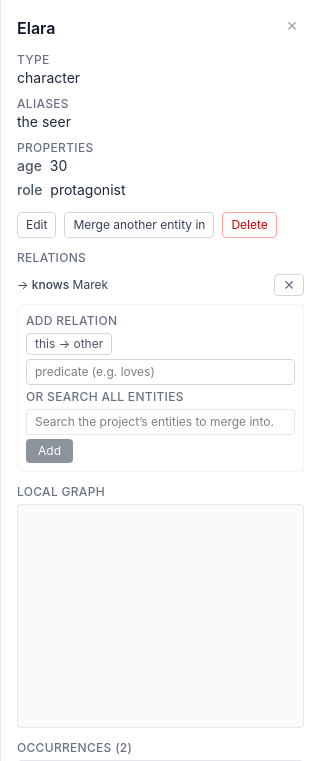
ReaderEntityPanel — entity editing (M4.S3a-fe) › PATCHes the edited name (project-language slot) and type, then leaves edit mode
The width and height of the screenshot is (321, 761).
Step 1. Click the button with test id "reader-entity-edit" → coordinates (37, 225), box [17,212,56,238]
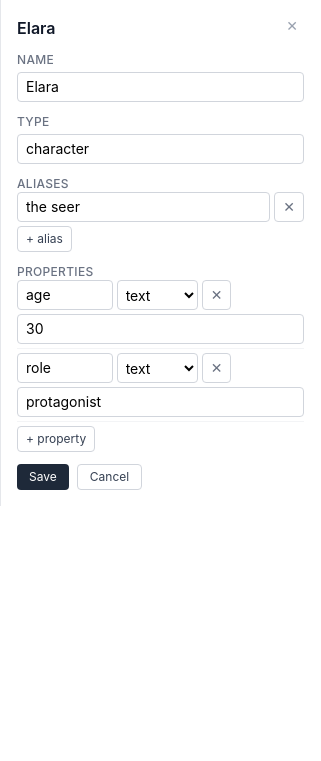
Step 2. Replace the text in the field with test id "reader-entity-name-input" with "Elaria" → coordinates (160, 87), box [17,72,304,102]
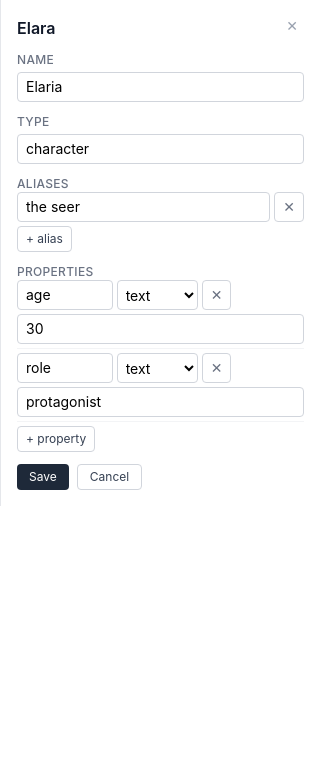
Step 3. Replace the text in the field with test id "reader-entity-type-input" with "deity" → coordinates (160, 149), box [17,134,304,164]
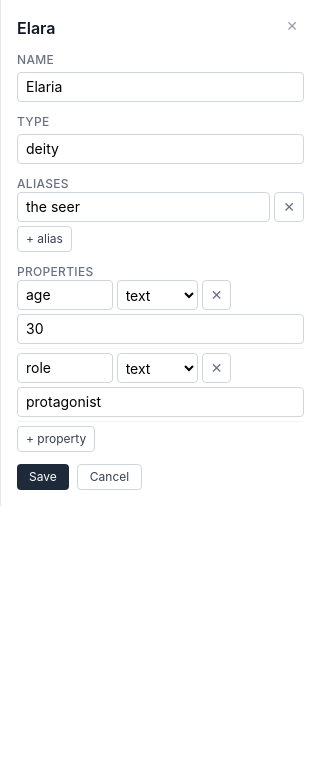
Step 4. Click the button with test id "reader-entity-save" → coordinates (43, 477), box [17,464,69,490]
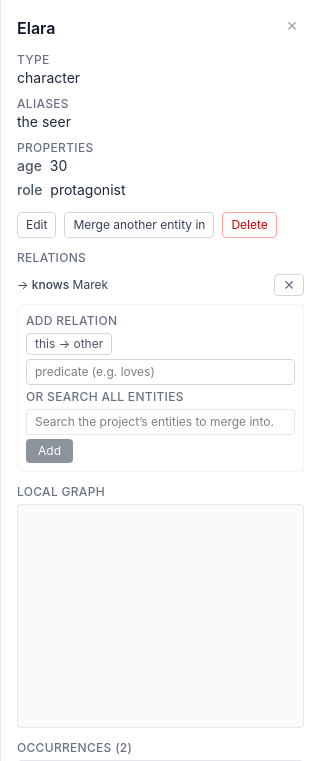
Expected: the form with test id "reader-entity-edit-form" is gone
